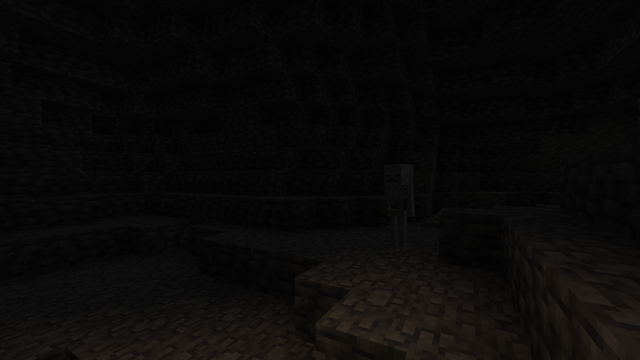squelettes: (383, 164, 413, 249)
